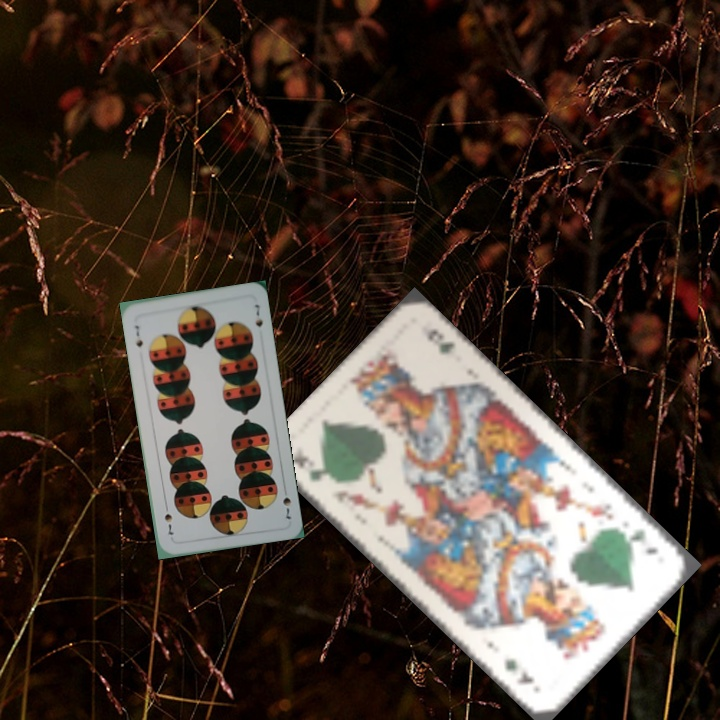GK: (288, 445, 329, 484), (625, 525, 661, 558)
S7: (279, 483, 294, 522), (131, 321, 145, 349)
